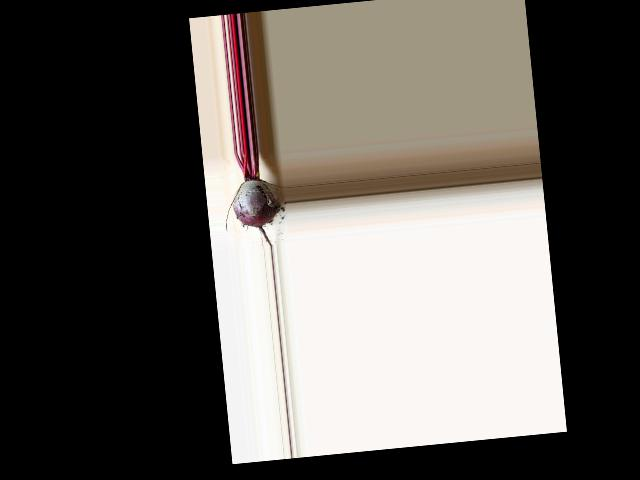beet: (219, 150, 283, 251)
